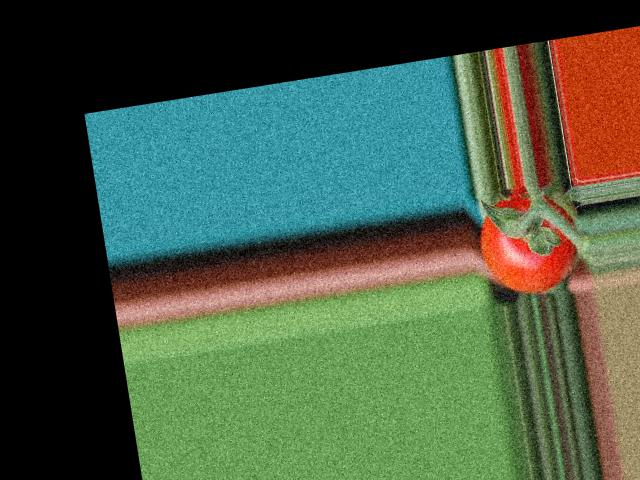tomato: (472, 180, 584, 299)
